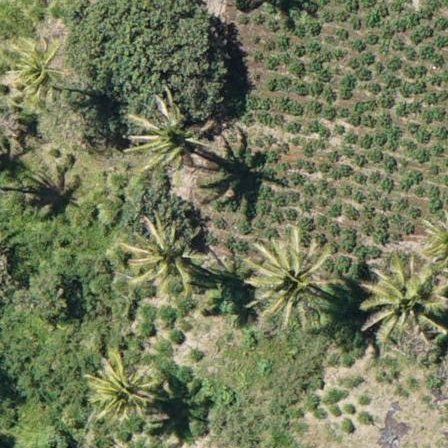palm_tree: (244, 225, 336, 322), (121, 87, 209, 181), (363, 248, 448, 342), (82, 349, 152, 422), (130, 220, 197, 291), (5, 29, 69, 97)
